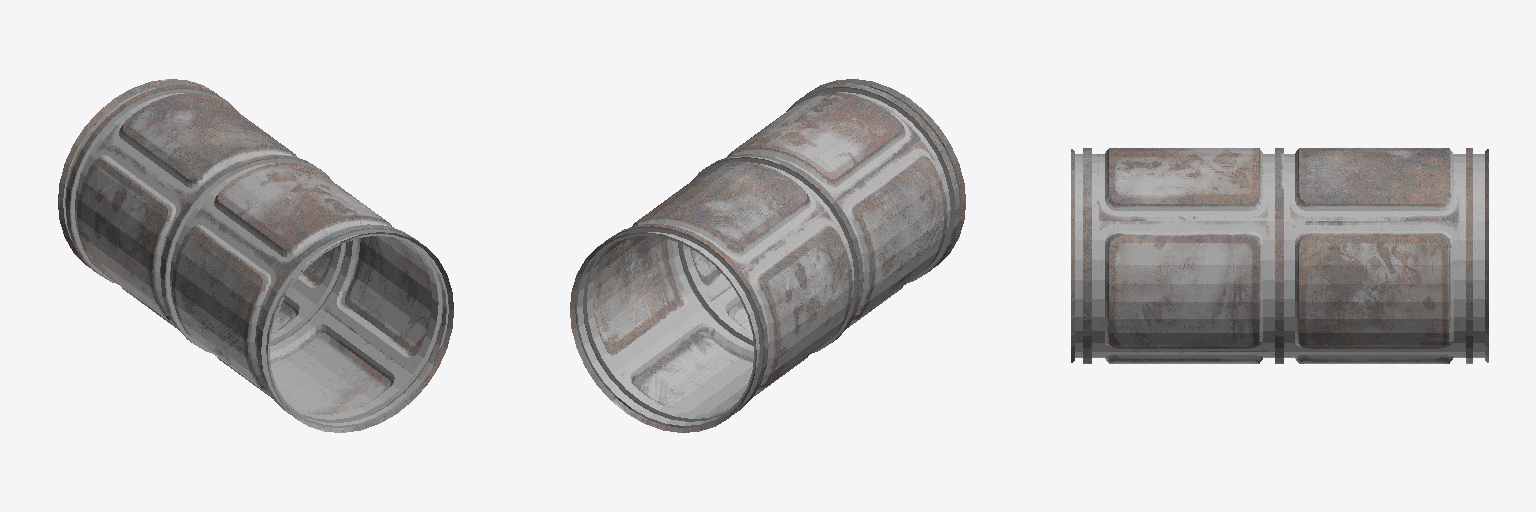
The picture shows the model from 3 angles: view 1: azimuth 30°, elevation 25°; view 2: azimuth 150°, elevation 25°; view 3: azimuth 270°, elevation 25°; orthographic projection.
Visible parts, largest first — view 1: Cylinder001; view 2: Cylinder001; view 3: Cylinder001.
Boxes of the visible parts, x1,y1,x2,y2 form: Cylinder001: [58, 79, 453, 432]; Cylinder001: [570, 79, 965, 432]; Cylinder001: [1071, 148, 1488, 363].
Bounding box in the file's own units: 10.64 × 10.65 × 20.45.
Materials: 1 (1 with a texture image).